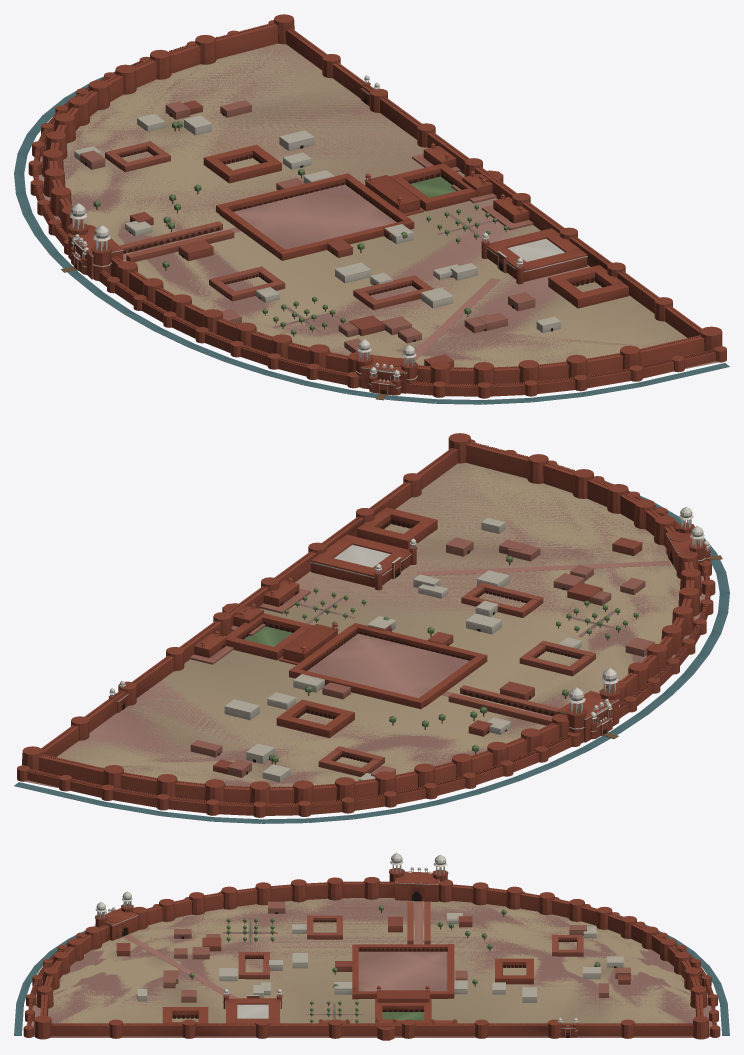
Rendered from agra-fort-1580.glb.
3 renders of one model, top to bottom at view 1: azimuth 30°, elevation 25°; view 2: azimuth 150°, elevation 25°; view 3: azimuth 270°, elevation 25°, orthographic. The views are drawn at different scales.
Parts seen in each view (by area): view 1: p0_walls, p2_palaces, p1_gates, p3_river palaces; view 2: p0_walls, p2_palaces, p1_gates, p3_river palaces; view 3: p0_walls, p2_palaces, p1_gates, p3_river palaces.
Part boxes in pixels (left/top/right/bottom): p0_walls: left=14, top=14, right=729, bottom=404; p2_palaces: left=74, top=100, right=628, bottom=367; p1_gates: left=61, top=75, right=500, bottom=400; p3_river palaces: left=203, top=142, right=533, bottom=243; p0_walls: left=14, top=433, right=729, bottom=823; p2_palaces: left=190, top=507, right=655, bottom=782; p1_gates: left=108, top=506, right=722, bottom=743; p3_river palaces: left=190, top=577, right=366, bottom=738; p0_walls: left=14, top=877, right=729, bottom=1039; p2_palaces: left=116, top=901, right=630, bottom=1023; p1_gates: left=95, top=852, right=578, bottom=1037; p3_river palaces: left=306, top=958, right=533, bottom=1040.
Bounding box in the file's own units: 471 × 57.44 × 914.
